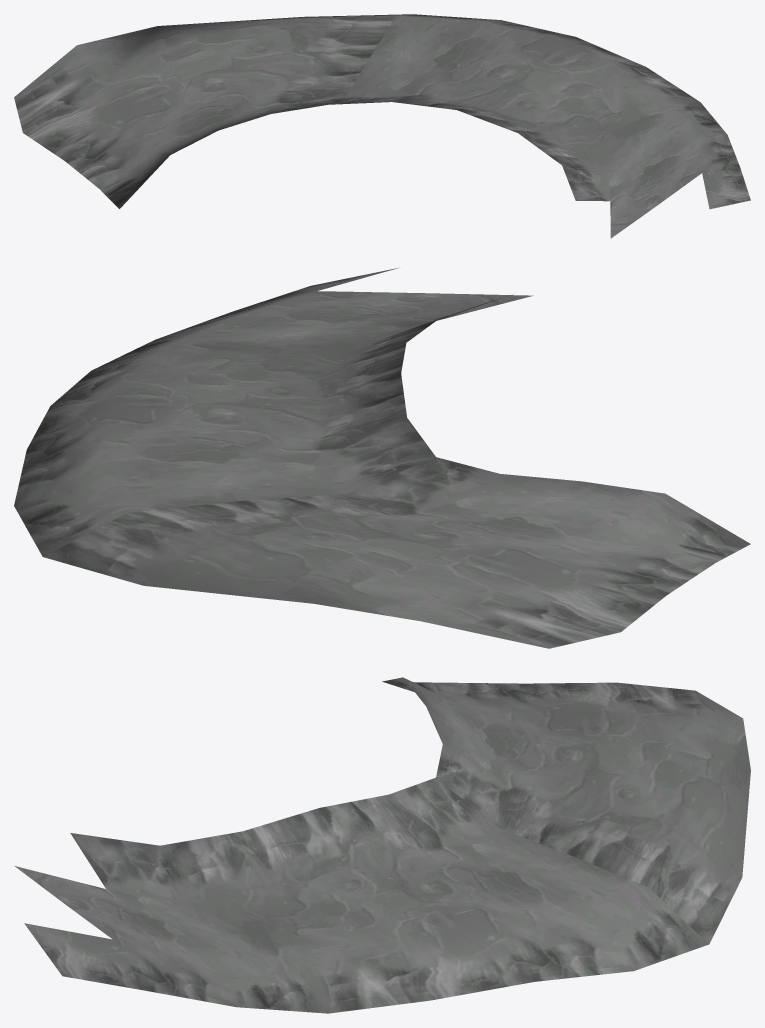
File: SWORDLIGHT20_PS-AREA03_145.fbx
3 renders of one model, top to bottom at view 1: azimuth 30°, elevation 25°; view 2: azimuth 150°, elevation 25°; view 3: azimuth 270°, elevation 25°, orthographic. The views are drawn at different scales.
Parts seen in each view (by area): view 1: SWORDLIGHT20_PS-AREA03_145; view 2: SWORDLIGHT20_PS-AREA03_145; view 3: SWORDLIGHT20_PS-AREA03_145.
Part boxes in pixels (x1,y1,x2,y2): SWORDLIGHT20_PS-AREA03_145: (14,14,750,238); SWORDLIGHT20_PS-AREA03_145: (14,267,750,648); SWORDLIGHT20_PS-AREA03_145: (15,677,750,1013).
Size of the model in its own units: 126350 by 12267 by 123885.
Materials: 2 (2 with a texture image).
